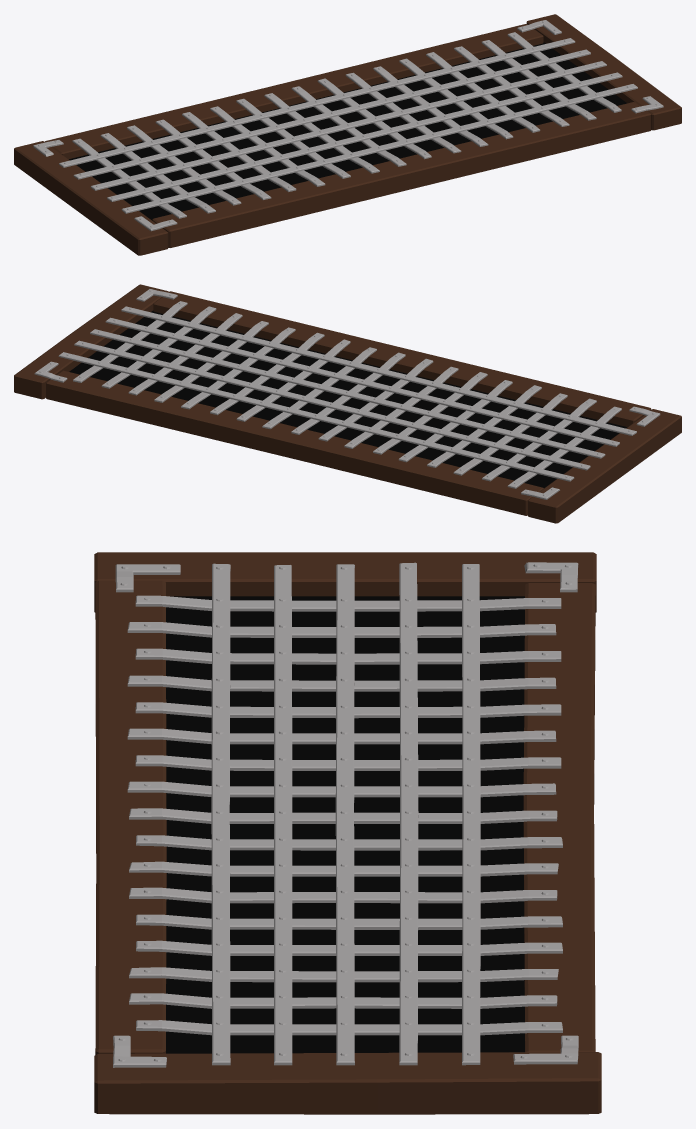
Rendered from LGESpikeWoodenGrate.fbx.
3 renders of one model, top to bottom at view 1: azimuth 30°, elevation 25°; view 2: azimuth 150°, elevation 25°; view 3: azimuth 270°, elevation 25°, orthographic. The views are drawn at different scales.
Visible parts, largest first — view 1: LGESpikeWoodenGrate; view 2: LGESpikeWoodenGrate; view 3: LGESpikeWoodenGrate.
Part boxes in pixels (left/top/right/bottom): LGESpikeWoodenGrate: left=14, top=14, right=681, bottom=255; LGESpikeWoodenGrate: left=14, top=284, right=681, bottom=523; LGESpikeWoodenGrate: left=94, top=552, right=601, bottom=1114.
Bounding box in the file's own units: 297 × 10.36 × 120.
